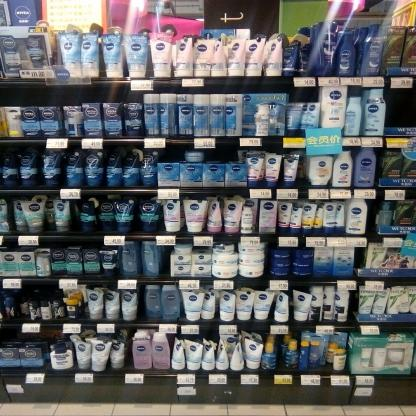Void: (385, 92, 410, 130), (218, 143, 239, 162), (158, 149, 180, 161)
